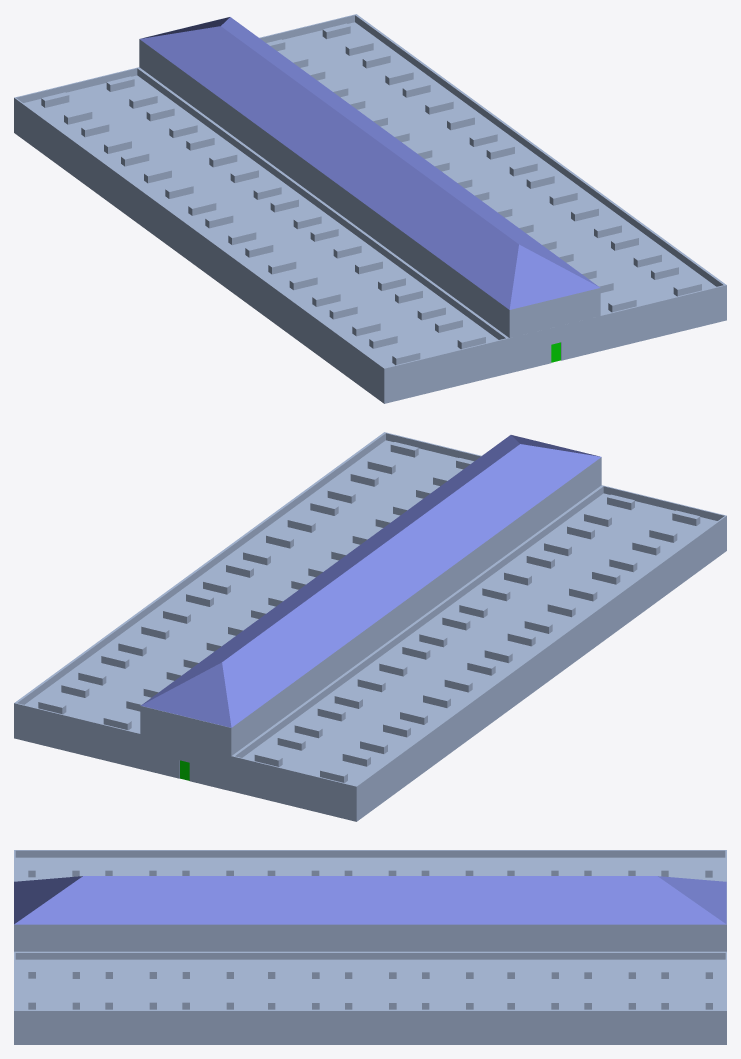
File: Activated_Carbon_Filter.glb
3 views of the same model, one above another, from view 1: azimuth 30°, elevation 25°; view 2: azimuth 150°, elevation 25°; view 3: azimuth 270°, elevation 25° (orthographic). The views are drawn at different scales.
Visible parts, largest first — view 1: Floor1, Roof; view 2: Floor1, Roof; view 3: Floor1, Roof.
Part boxes in pixels (x1,y1,x2,y2): Floor1: (14, 14, 726, 403); Roof: (139, 17, 600, 337); Floor1: (14, 432, 726, 821); Roof: (140, 435, 601, 755); Floor1: (14, 850, 726, 1044); Roof: (14, 876, 726, 951).
Size of the model in its own units: 50.92 by 13 by 95.36.
